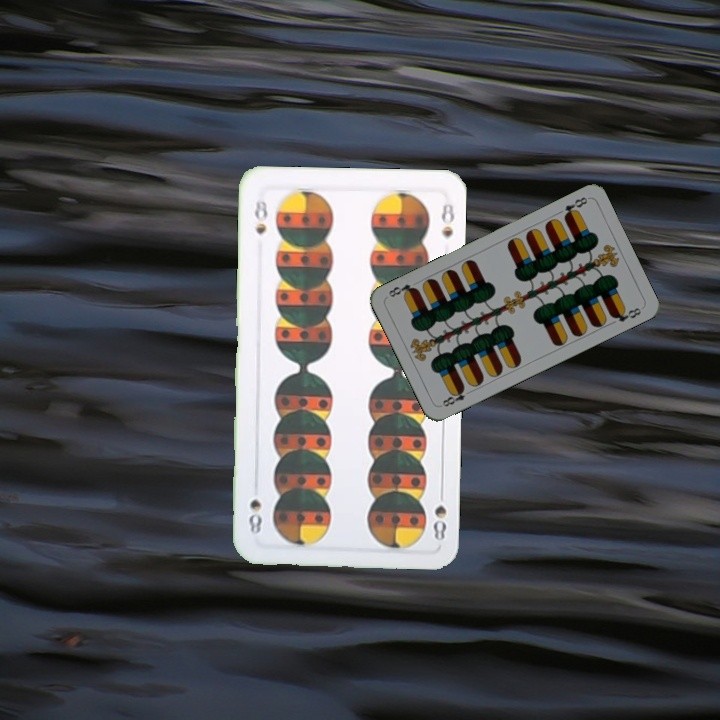E8: (437, 383, 475, 409), (560, 193, 590, 221)
S8: (429, 484, 449, 543), (251, 191, 271, 237)
